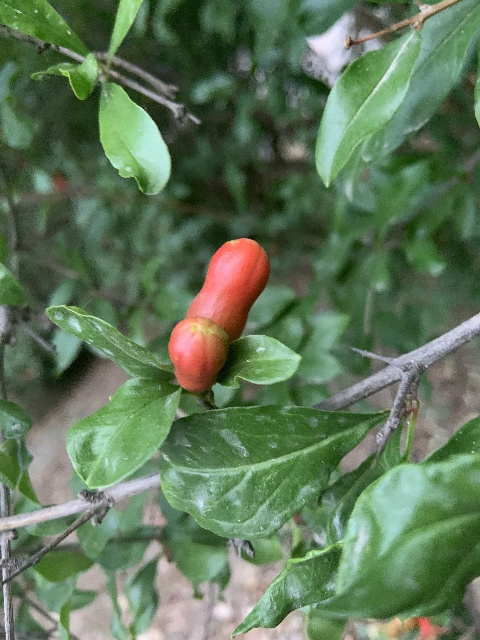bud: (179, 237, 270, 343), (168, 318, 229, 392)
